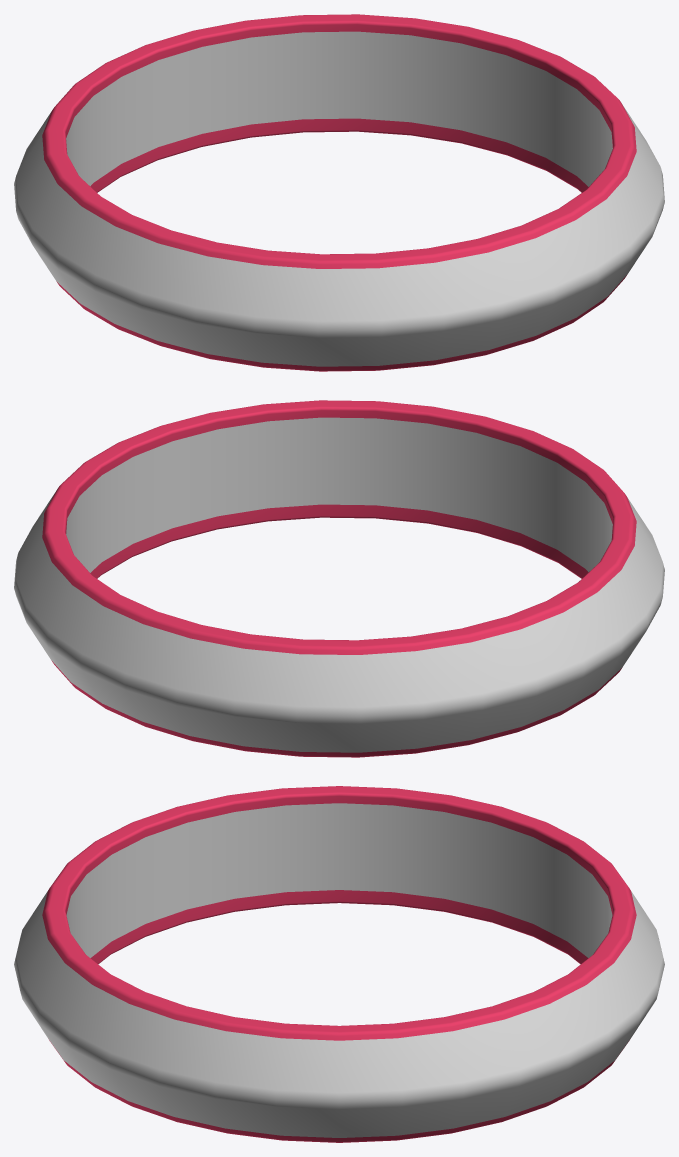
Rendered from bumper.fbx.
The picture shows the model from 3 angles, top to bottom: view 1: azimuth 30°, elevation 25°; view 2: azimuth 150°, elevation 25°; view 3: azimuth 270°, elevation 25°; orthographic projection.
Parts seen in each view (by area): view 1: Cylinder; view 2: Cylinder; view 3: Cylinder.
Boxes of the visible parts, x1=… form: Cylinder: x1=14, y1=14, x2=664, y2=371; Cylinder: x1=14, y1=400, x2=664, y2=757; Cylinder: x1=14, y1=786, x2=664, y2=1142.
Size of the model in its own units: 110924 by 110924 by 20799.
